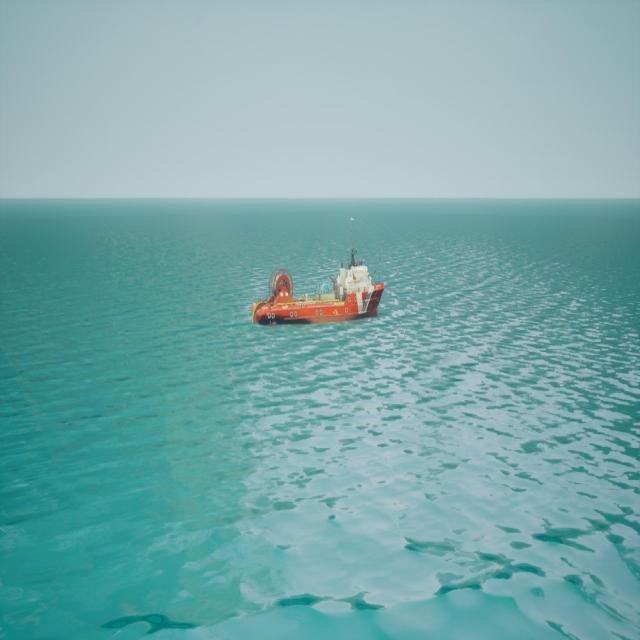tug boat: (253, 219, 386, 328)
